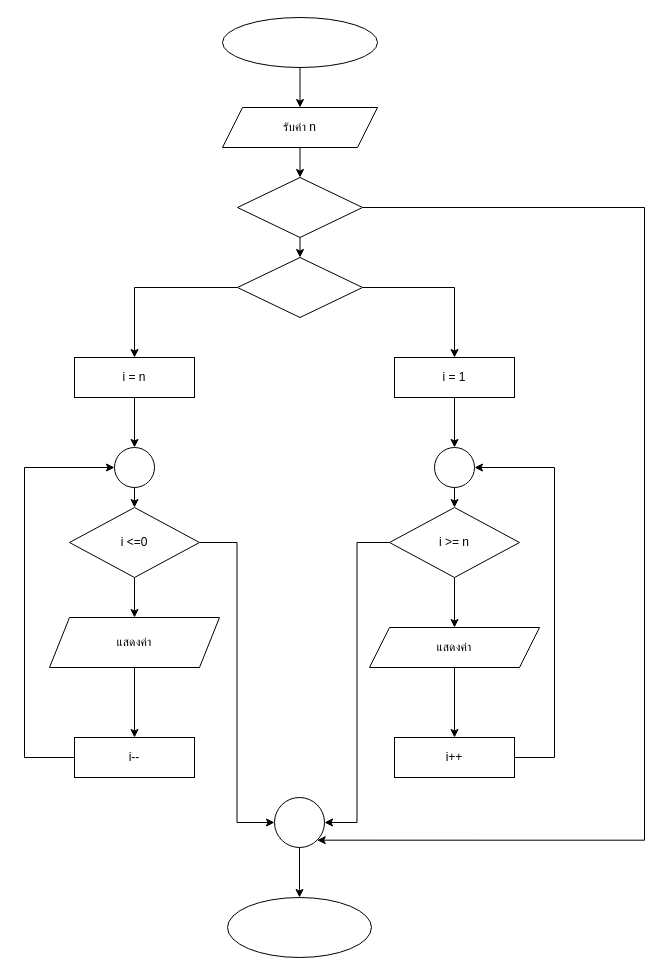
The diagram is 670 pixels wide and 975 high, and some of its shapes have lost their labels. Here are the shapes that lost their labels. From the top down, the box of each, then its label:
(222, 16, 378, 68): start
(236, 176, 362, 238): ตรวจสอบ N
(236, 256, 362, 318): n % 2 == 0
(226, 896, 372, 958): สิ้นสุด
